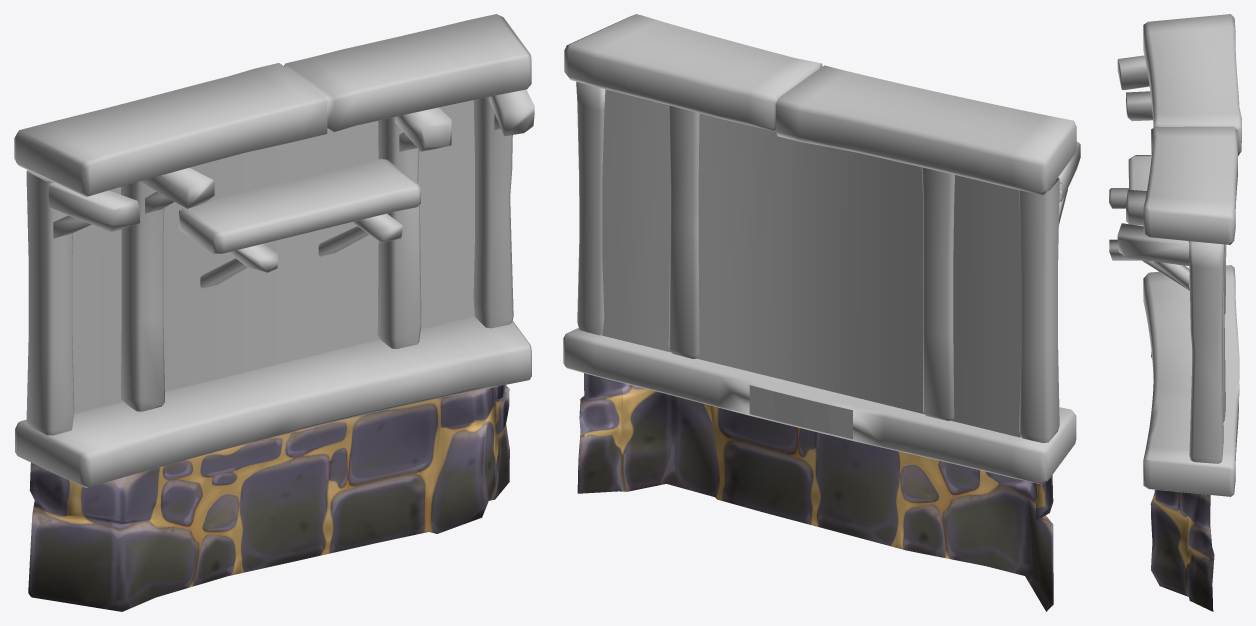
Rendered from U_Wall_LongB_fl.fbx.
3 renders of one model, left to right at view 1: azimuth 30°, elevation 25°; view 2: azimuth 150°, elevation 25°; view 3: azimuth 270°, elevation 25°, orthographic. The views are drawn at different scales.
Visible parts, largest first — view 1: U_Wall_LongB; view 2: U_Wall_LongB; view 3: U_Wall_LongB.
Boxes of the visible parts, <box> form: U_Wall_LongB: <box>14,14,534,611</box>; U_Wall_LongB: <box>563,14,1080,611</box>; U_Wall_LongB: <box>1109,14,1241,611</box>.
Bounding box in the file's own units: 4612 × 4214 × 1267.
